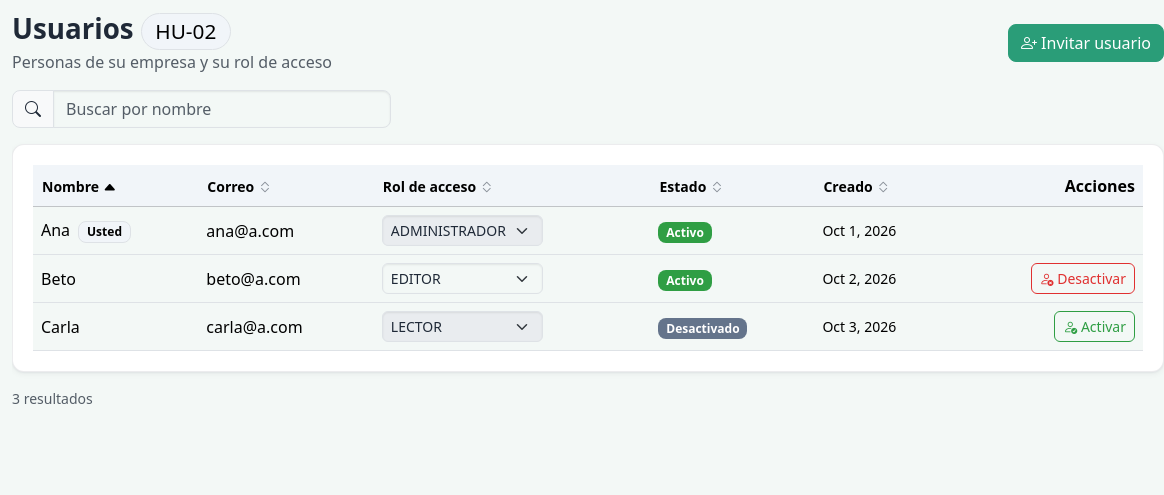
Test case: UsuariosComponent (HU-02) › si la API rechaza el cambio de rol, el select vuelve al rol anterior y se ve el motivo
The width and height of the screenshot is (1164, 495).
Select "LECTOR" in the dropdown named "Rol de Beto" at (462, 279), box left=382, top=263, right=543, bottom=294
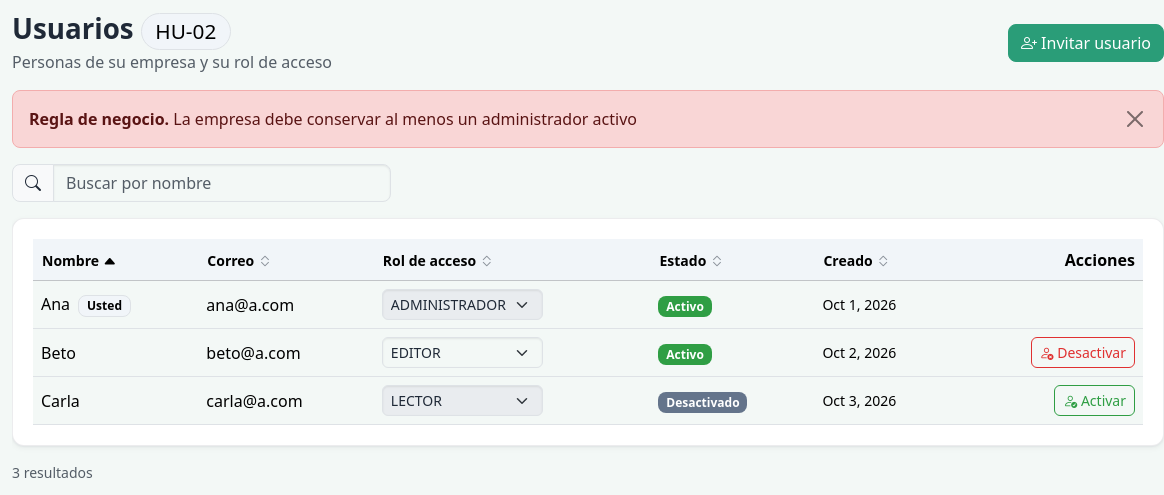
expect the text "La empresa debe conservar al menos un administrador activo" is shown: met, box left=169, top=108, right=637, bottom=130
